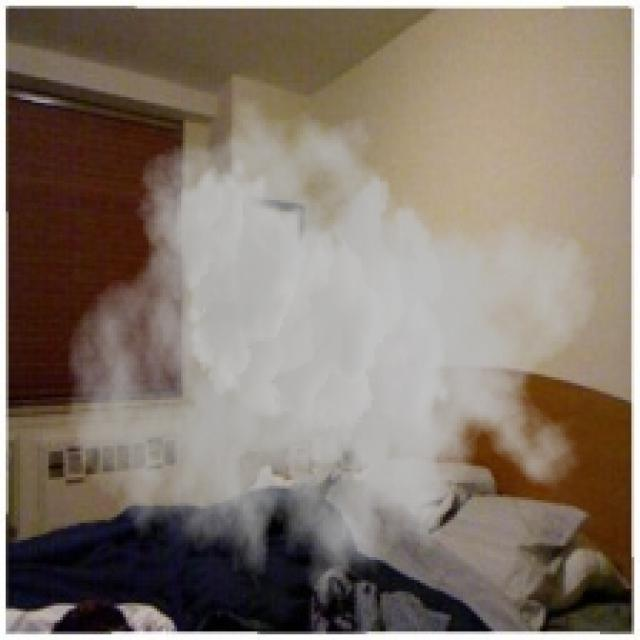smoke: (66, 97, 600, 634)
